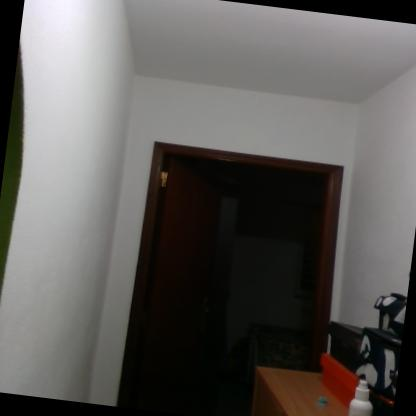open: (100, 118, 370, 415)
